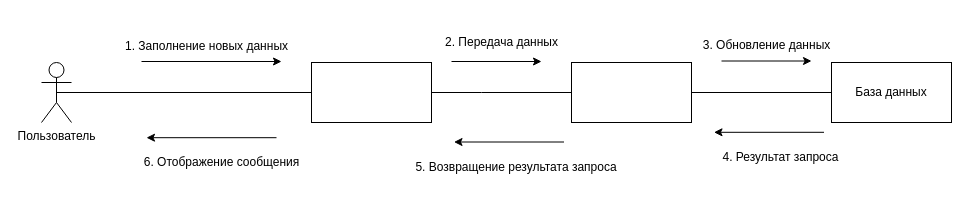
Some shapes in this 969 by 199 pixel diagram are drawn without their labels. The shapes that lost their labels are listed below. From the top down, each one's centre as x and y in pixels, then its label:
At (x=371, y=92): "Клиент".
At (x=631, y=92): "Сервер".
